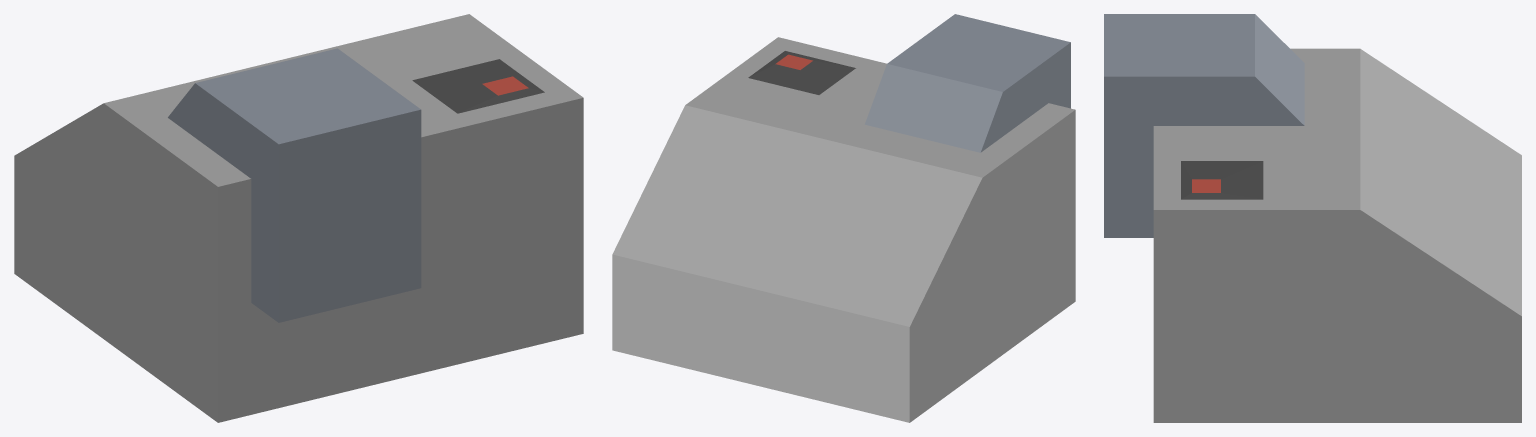
Rendered from HandDryer.glb.
3 views of the same model, side by side, from view 1: azimuth 30°, elevation 25°; view 2: azimuth 150°, elevation 25°; view 3: azimuth 270°, elevation 25° (orthographic). The views are drawn at different scales.
Parts seen in each view (by area): view 1: SO_HandDryer; view 2: SO_HandDryer; view 3: SO_HandDryer.
Part boxes in pixels (left/top/right/bottom): SO_HandDryer: left=14, top=14, right=583, bottom=422; SO_HandDryer: left=612, top=14, right=1075, bottom=422; SO_HandDryer: left=1104, top=14, right=1521, bottom=422.
Size of the model in its own units: 0.7142 by 0.5426 by 0.7828.
1 material, 1 textured.
